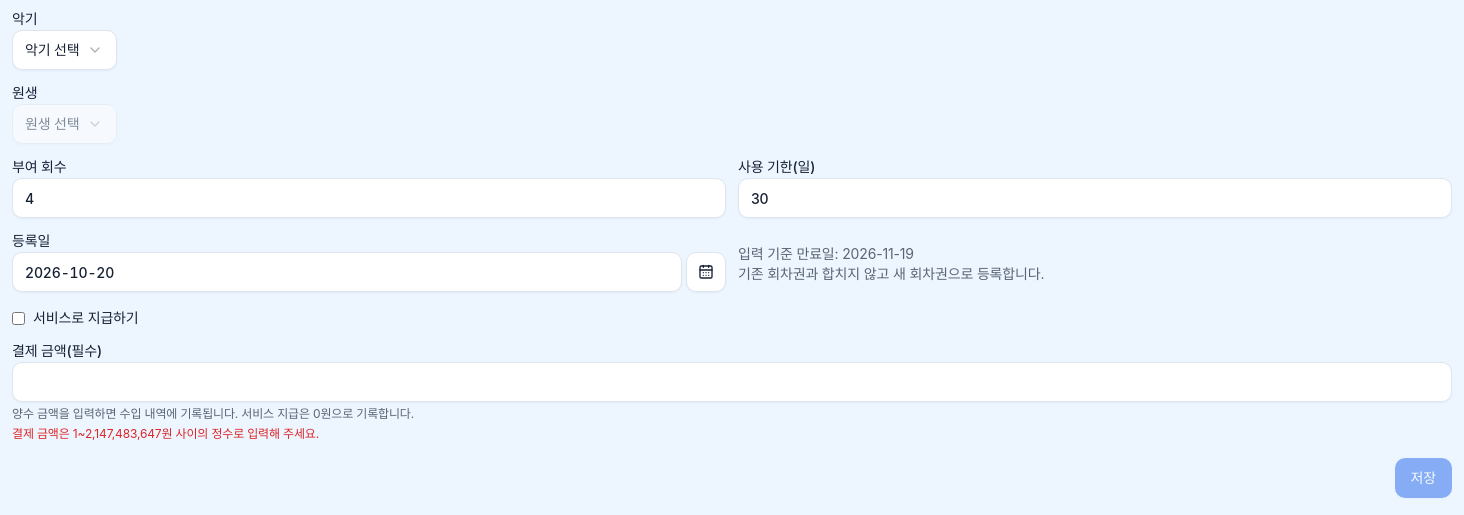
Test: 회차권 등록 선택 순서 › 악기를 먼저 선택하고 그 악기를 수강하는 원생만 표시한다
Select "피아노" in the dropdown labelled "악기" at (64, 50), box x1=12 y1=30 x2=117 y2=70
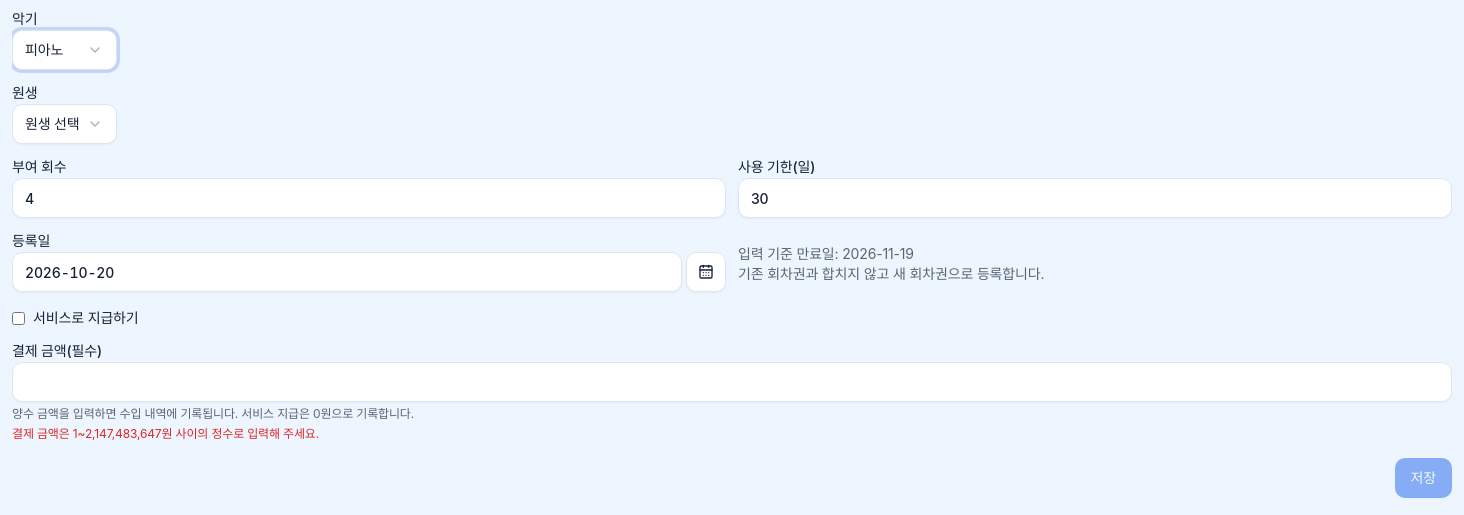
Select "김민지" in the dropdown labelled "원생" at (64, 124), box x1=12 y1=104 x2=117 y2=144
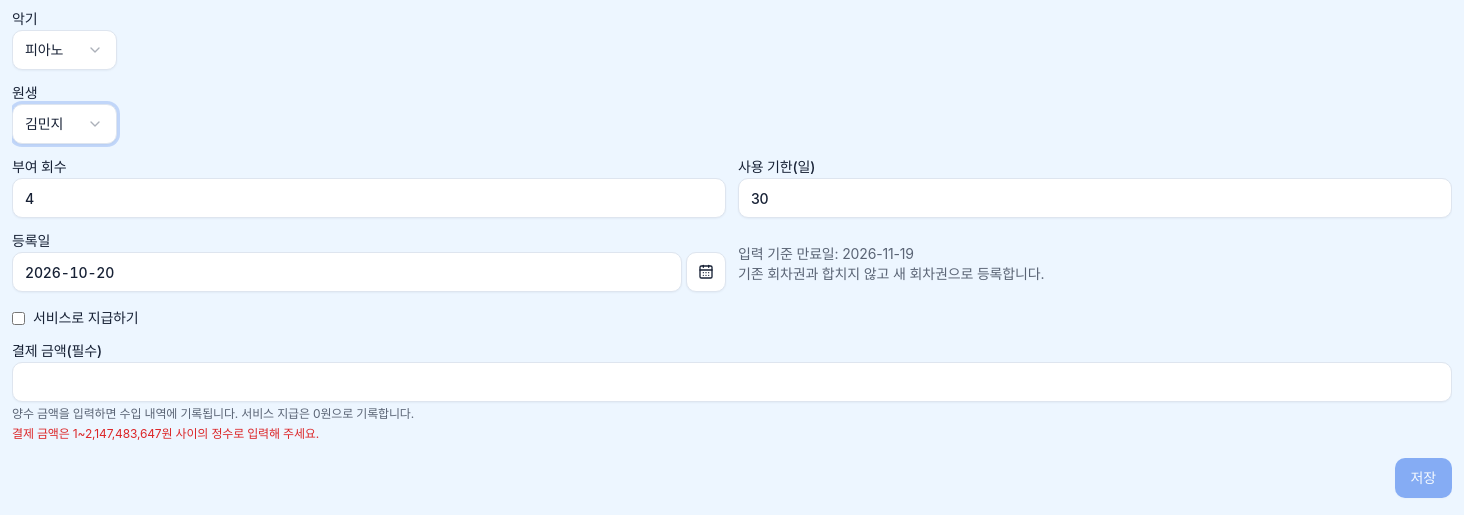
Expected: the button "저장" is disabled, x1=1394 y1=458 x2=1452 y2=498
Type "100000" into the field labelled "결제 금액" at (732, 382), box x1=12 y1=362 x2=1452 y2=402
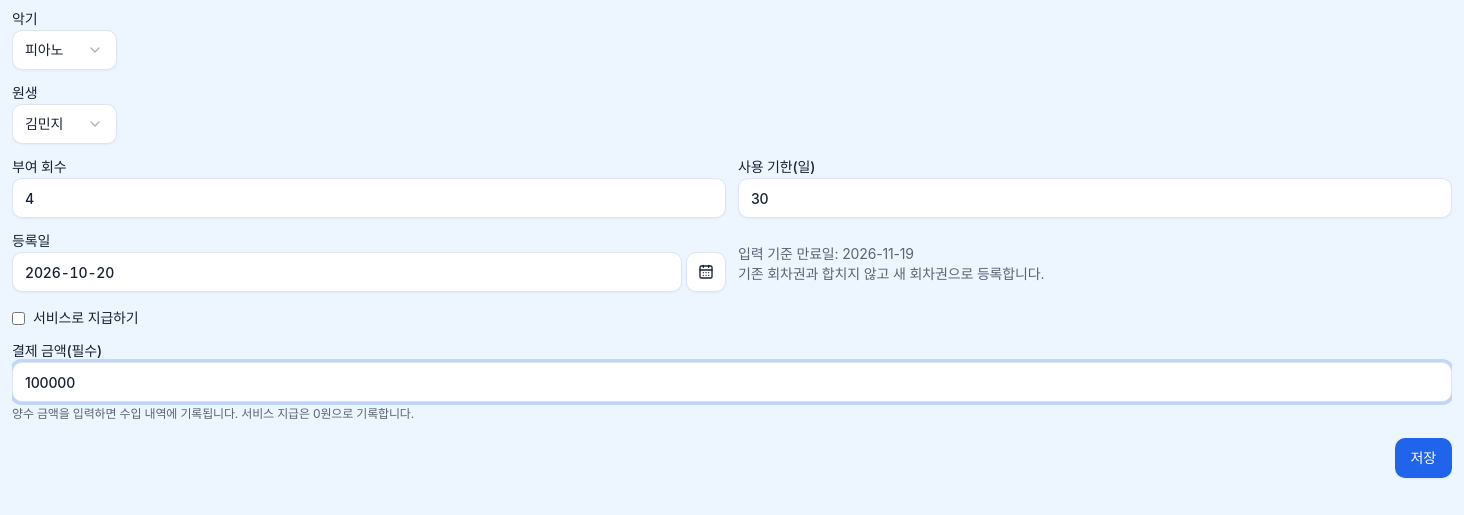
Result: the button "저장" is enabled at x1=1394 y1=438 x2=1452 y2=478
